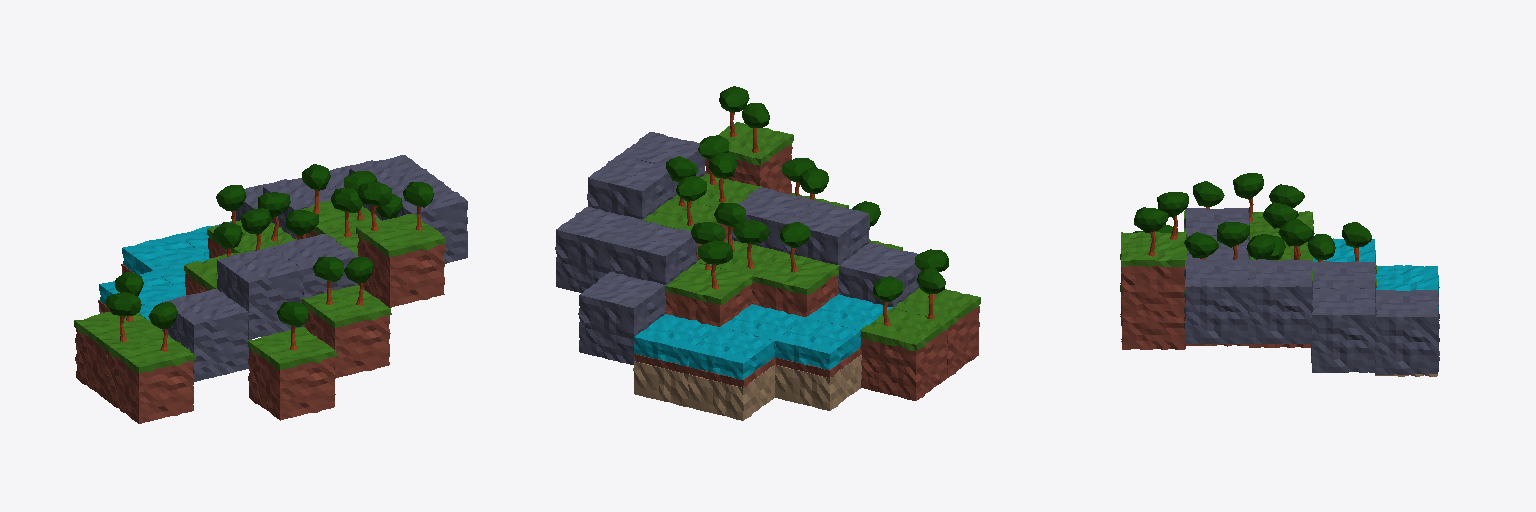
Rendered from Island.obj.
The picture shows the model from 3 angles: view 1: azimuth 30°, elevation 25°; view 2: azimuth 150°, elevation 25°; view 3: azimuth 270°, elevation 25°; orthographic projection.
Parts seen in each view (by area): view 1: Cube.014, Cube.012, Cube.010, Cube.011, Cube.006, Cube.060, Cube.013, Cube.018, Cube.007, Cube.002, Cube.017, Cube.015 (+19 smaller); view 2: Cube.002, Cube.004, Cube.013, Cube.019, Cube.003, Cube.016, Cube.015, Cube.017, Cube.064, Cube.000, Cube.060, Cube.010 (+25 smaller); view 3: Cube.018, Cube.016, Cube.017, Cube.019, Cube.010, Cube.011, Cube.015, Cube.002, Cube.060, Icosphere.010, Cube.004, Icosphere.007 (+12 smaller).
Part boxes in pixels (x1,y1,x2,y2): Cube.014: (106,330,195,423); Cube.012: (248,327,336,420); Cube.010: (356,214,445,307); Cube.011: (302,285,391,378); Cube.006: (162,289,248,381); Cube.060: (217,247,303,339); Cube.013: (74,312,160,400); Cube.018: (381,178,467,263); Cube.007: (272,234,357,326); Cube.002: (121,234,208,274); Cube.017: (349,155,435,219); Cube.015: (263,178,339,238); Cube.002: (688,327,774,420); Cube.004: (775,317,861,410); Cube.013: (860,308,949,400); Cube.019: (578,272,665,364); Cube.003: (633,314,719,406); Cube.016: (555,207,640,292); Cube.015: (610,220,697,307); Cube.017: (587,155,673,219); Cube.064: (751,252,839,316); Cube.000: (665,261,752,326); Cube.060: (783,201,869,292); Cube.010: (705,122,793,193); Cube.018: (1184,259,1248,343); Cube.016: (1311,288,1376,372); Cube.017: (1248,259,1313,343); Cube.019: (1375,290,1439,374); Cube.010: (1120,232,1187,317); Cube.011: (1120,272,1185,348); Cube.015: (1312,261,1376,311); Cube.002: (1376,265,1439,328); Cube.060: (1184,208,1250,257); Icosphere.010: (1134,207,1168,256); Cube.004: (1313,238,1375,262); Icosphere.007: (1217,222,1249,259).
Size of the model in its own units: 12.13 by 6.63 by 10.14.